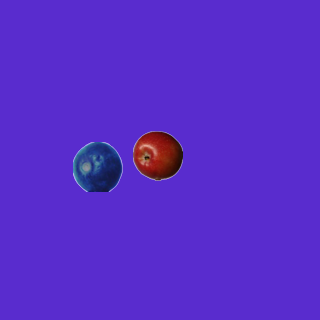Apple Braeburn: (132, 130, 182, 180)
Huckleberry: (72, 141, 122, 191)
